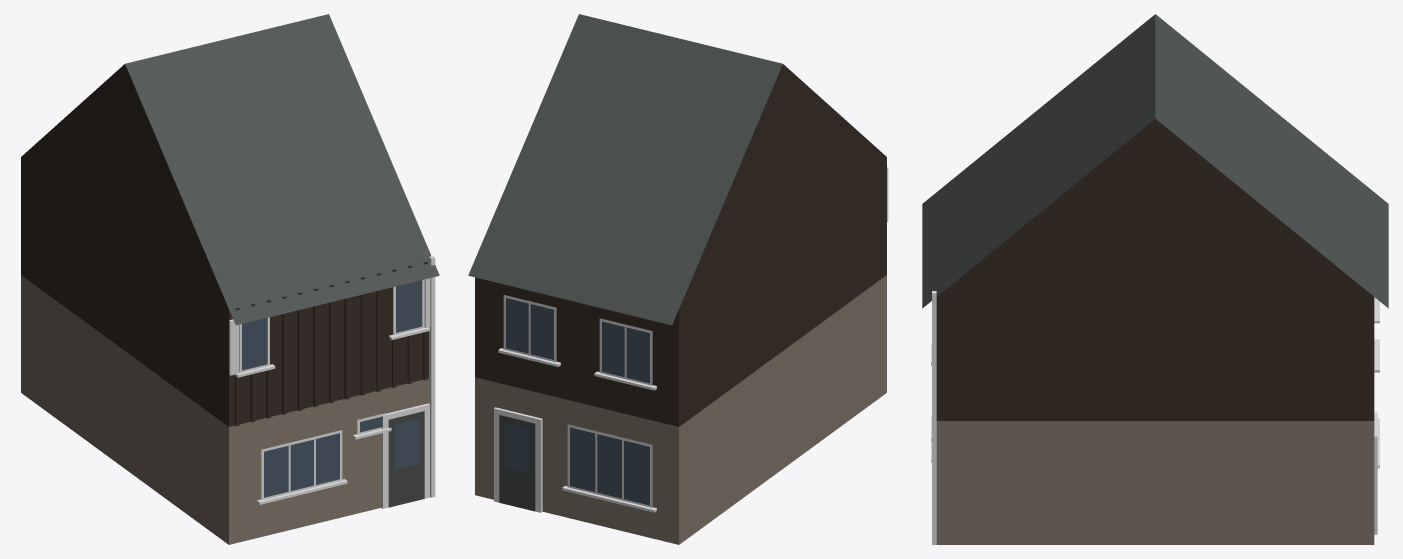
The model's file is zo-g3-timber-brick__timber__2__gable__long__solid.glb.
3 views of the same model, side by side, from view 1: azimuth 30°, elevation 25°; view 2: azimuth 150°, elevation 25°; view 3: azimuth 270°, elevation 25° (orthographic). The views are drawn at different scales.
Parts seen in each view (by area): view 1: zo-g3-timber-brick__timber__2__gable__long__solid; view 2: zo-g3-timber-brick__timber__2__gable__long__solid; view 3: zo-g3-timber-brick__timber__2__gable__long__solid.
Boxes of the visible parts, <box> form: zo-g3-timber-brick__timber__2__gable__long__solid: <box>21,14,439,544</box>; zo-g3-timber-brick__timber__2__gable__long__solid: <box>468,14,888,544</box>; zo-g3-timber-brick__timber__2__gable__long__solid: <box>922,14,1388,544</box>.
Bounding box in the file's own units: 5.1 × 9.68 × 9.6.
